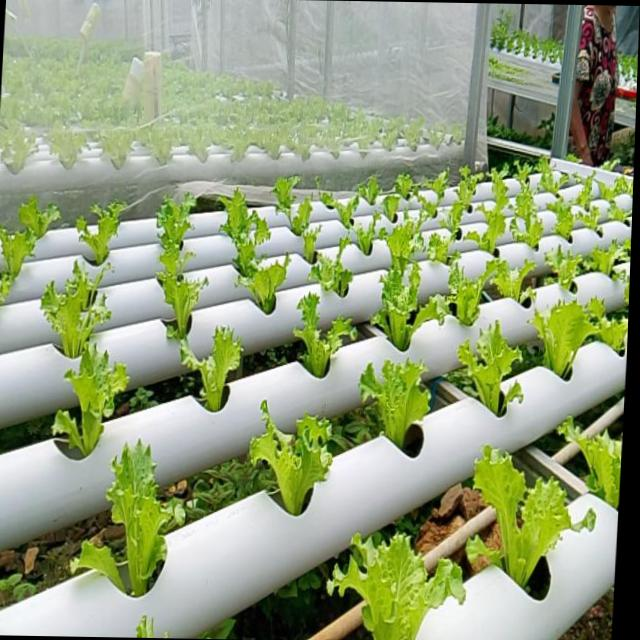Baby: (469, 443, 597, 583), (330, 531, 468, 640), (110, 440, 186, 597), (251, 401, 335, 516), (56, 345, 132, 458), (159, 195, 209, 348), (361, 359, 433, 457), (45, 262, 113, 360), (460, 321, 524, 416), (531, 295, 599, 377), (296, 294, 359, 379), (183, 328, 244, 413), (439, 256, 509, 326), (221, 190, 272, 278), (310, 238, 368, 298), (239, 256, 293, 315), (79, 203, 128, 267), (0, 226, 42, 299), (511, 164, 545, 249), (381, 213, 426, 276), (539, 155, 571, 193), (550, 195, 577, 238), (429, 232, 452, 263), (419, 190, 442, 221), (577, 172, 596, 209)
